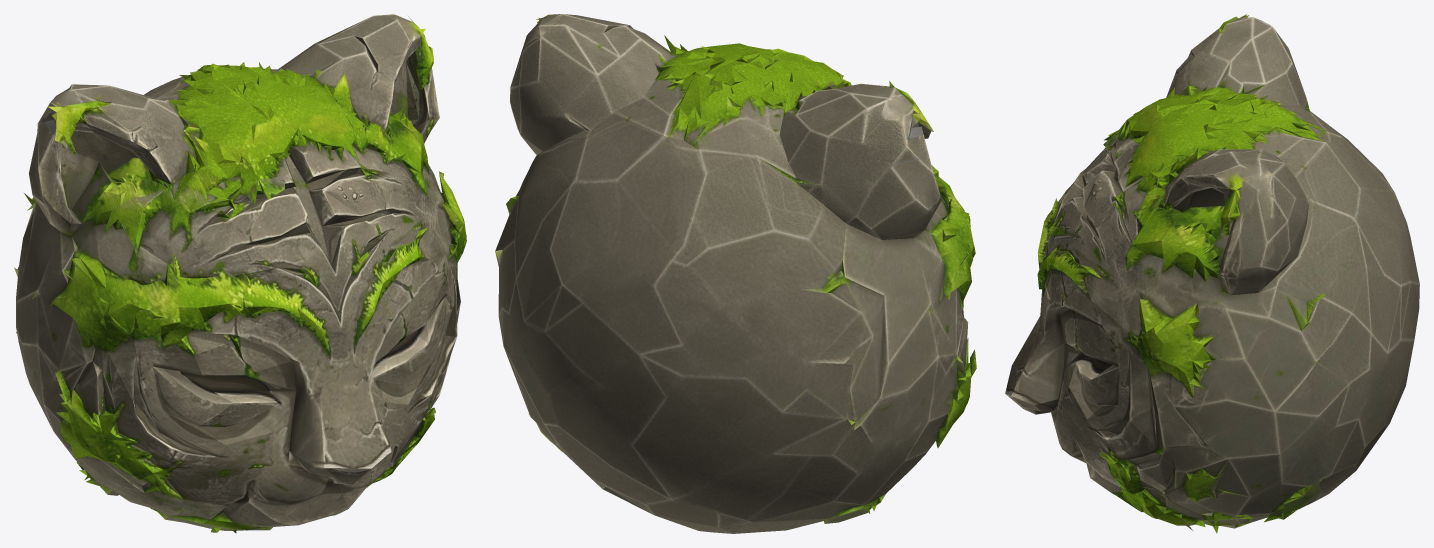
File: MaskStone.fbx
The picture shows the model from 3 angles, left to right: view 1: azimuth 30°, elevation 25°; view 2: azimuth 150°, elevation 25°; view 3: azimuth 270°, elevation 25°; orthographic projection. The views are drawn at different scales.
Parts seen in each view (by area): view 1: MaskStone; view 2: MaskStone; view 3: MaskStone.
Boxes of the visible parts, left/top/right/bottom form: MaskStone: left=14, top=14, right=466, bottom=533; MaskStone: left=495, top=14, right=976, bottom=533; MaskStone: left=1005, top=14, right=1419, bottom=533.
Bounding box in the file's own units: 0.9408 × 1 × 0.8997.
Materials: 1 (1 with a texture image).
